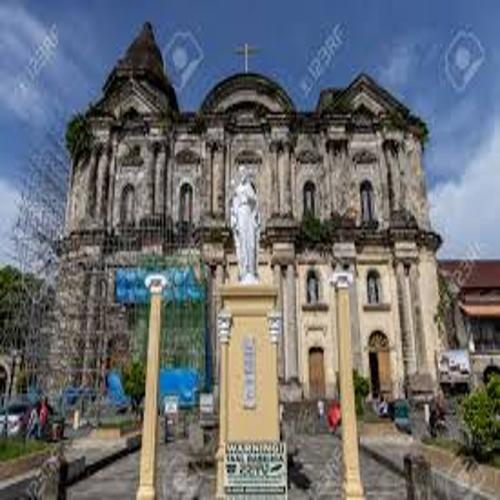Taal Basilica Church: (45, 14, 446, 422)
